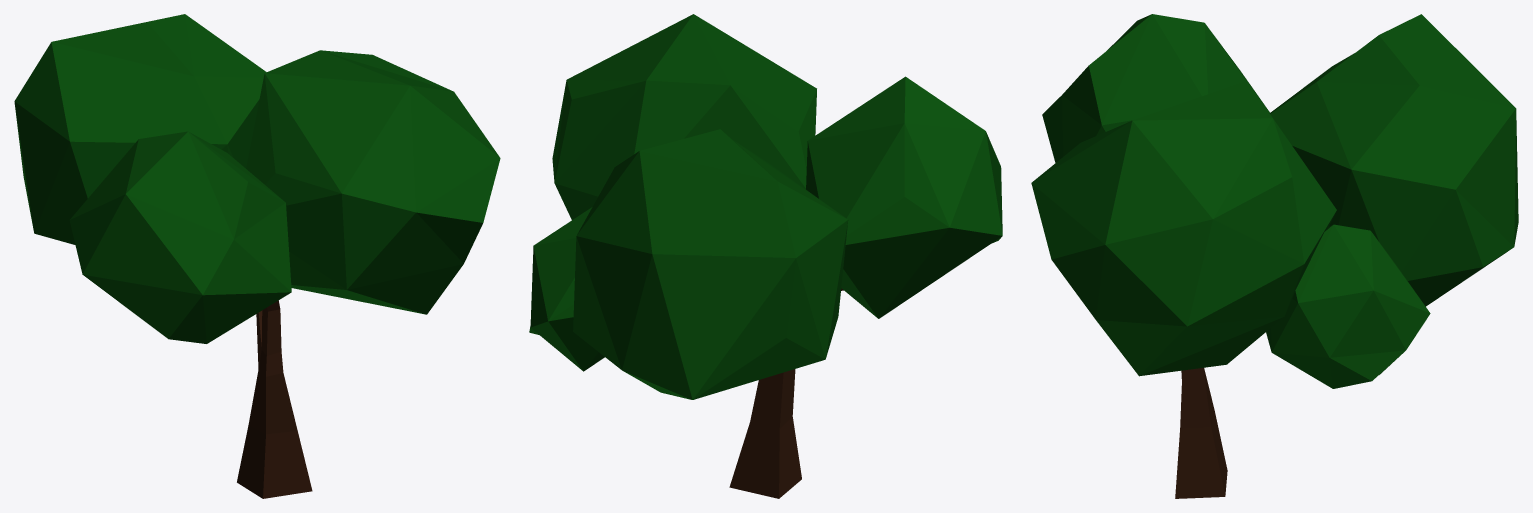
File: Forest01_Lowpoly Tree 1B.FBX
3 views of the same model, side by side, from view 1: azimuth 30°, elevation 25°; view 2: azimuth 150°, elevation 25°; view 3: azimuth 270°, elevation 25° (orthographic). The views are drawn at different scales.
Visible parts, largest first — view 1: trunk1; view 2: trunk1; view 3: trunk1.
Boxes of the visible parts, x1,y1,x2,y2 form: trunk1: (14, 14, 500, 498); trunk1: (529, 14, 1002, 498); trunk1: (1031, 14, 1518, 498).
Size of the model in its own units: 76.49 by 71.99 by 73.97.
